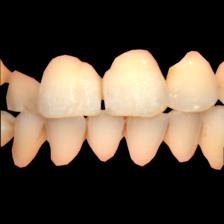cavity: (7, 118, 16, 143), (4, 68, 14, 84), (42, 124, 49, 142), (83, 126, 92, 140), (165, 65, 173, 79), (123, 123, 129, 136), (165, 125, 169, 140)
tooth: (105, 45, 166, 117), (40, 53, 101, 117), (167, 45, 217, 113), (125, 117, 166, 168), (47, 117, 87, 167), (168, 110, 201, 163), (13, 112, 42, 167), (89, 115, 122, 163), (5, 69, 38, 111), (204, 107, 224, 171), (1, 111, 16, 150)
